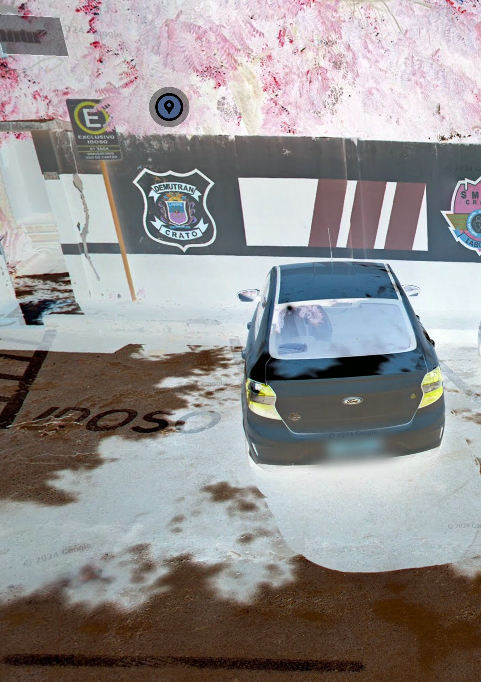car: (224, 224, 456, 472)
